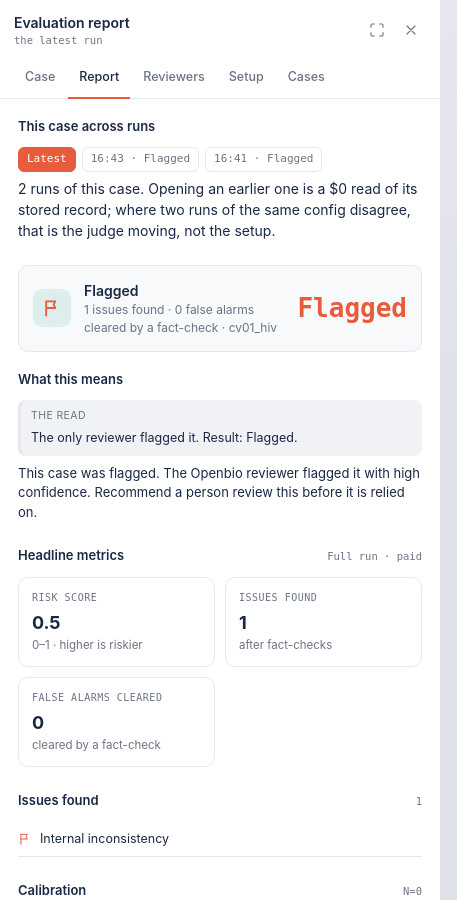
Test case: ReportTab — RUN-SCOPED-REPORT-1: a past run is openable › picking an earlier run renders THAT run's result, not the latest
This screenshot has width=457, height=900.
Expected: the element with test id "run-picker" is shown, x1=18 y1=116 x2=422 y2=240
What coordinates should you click on to do the following:
click the button with aria-label "run run-older"
I would click on:
 (264, 159)
Its box is x1=205 y1=147 x2=322 y2=172.
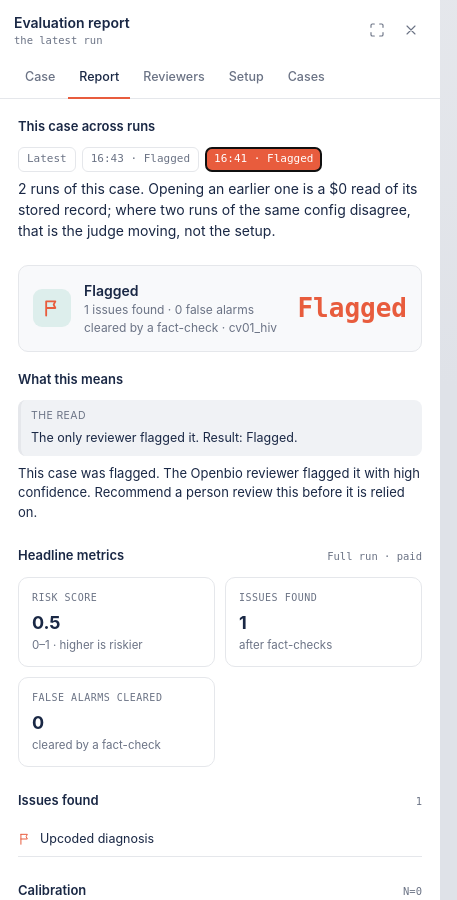
Expected: the text "Upcoded diagnosis" is shown, x1=40 y1=830 x2=154 y2=848
Expected: the text "Internal inconsistency" is gone
